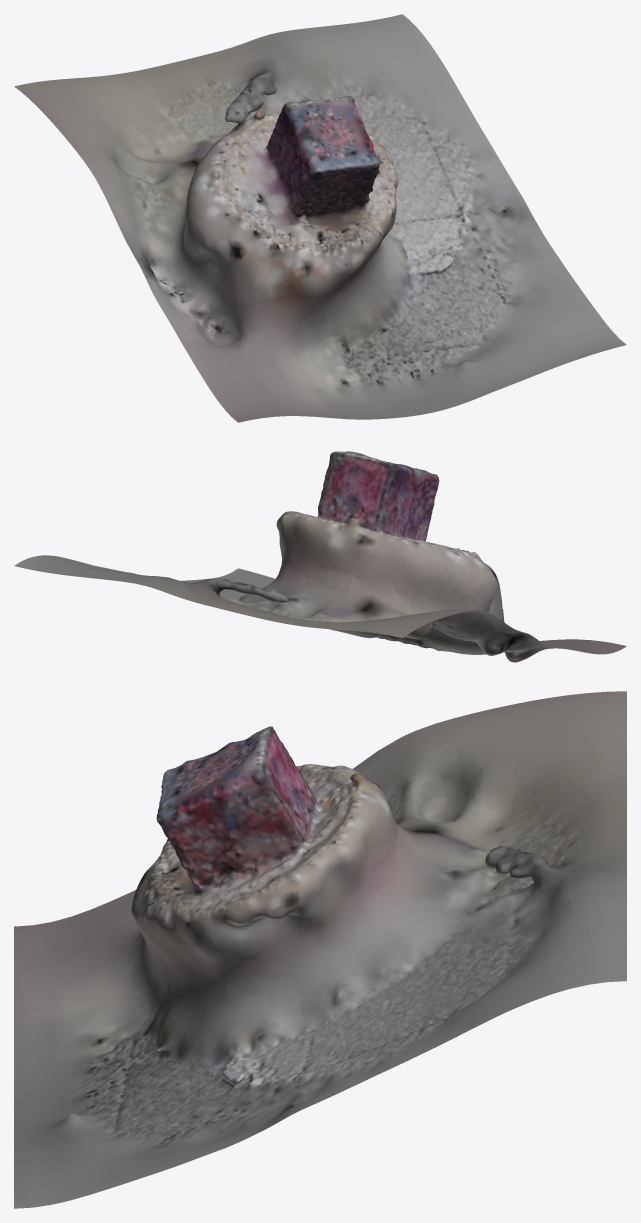
3 views of the same model, one above another, from view 1: azimuth 30°, elevation 25°; view 2: azimuth 150°, elevation 25°; view 3: azimuth 270°, elevation 25° (orthographic). The views are drawn at different scales.
Visible parts, largest first — view 1: ob01_final; view 2: ob01_final; view 3: ob01_final.
Boxes of the visible parts, x1,y1,x2,y2 form: ob01_final: (14,14,626,422); ob01_final: (14,451,626,662); ob01_final: (14,691,626,1208).
Size of the model in its own units: 1 by 0.623 by 1.
